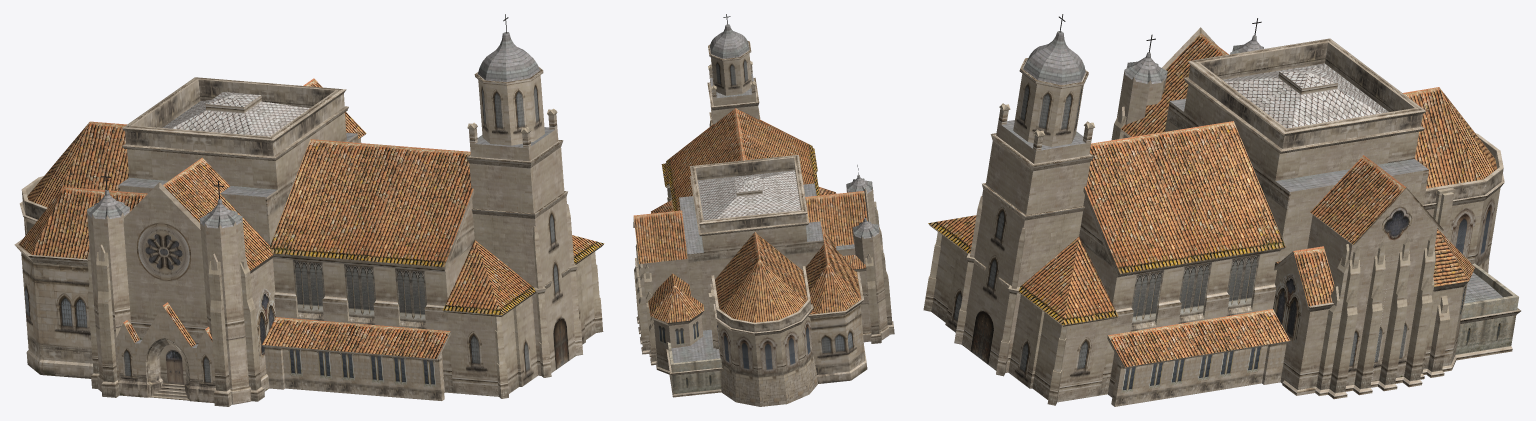
The model's file is Church_Building_169.glb.
3 views of the same model, side by side, from view 1: azimuth 30°, elevation 25°; view 2: azimuth 150°, elevation 25°; view 3: azimuth 270°, elevation 25° (orthographic). The views are drawn at different scales.
Visible parts, largest first — view 1: Object009_02 - Default_0; view 2: Object009_02 - Default_0; view 3: Object009_02 - Default_0.
Part boxes in pixels (box(x1,y1,x2,y2)): Object009_02 - Default_0: box(14, 14, 604, 406); Object009_02 - Default_0: box(633, 14, 894, 406); Object009_02 - Default_0: box(923, 14, 1520, 406).
Size of the model in its own units: 3966 by 3370 by 4502.
1 material, 1 textured.
